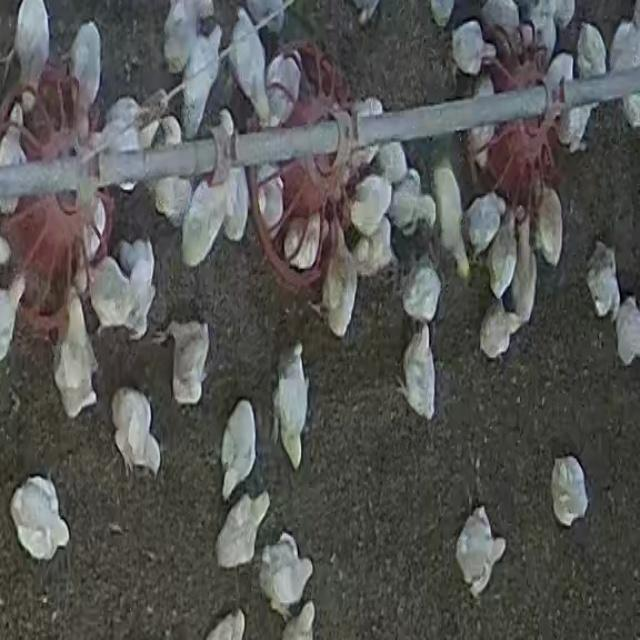chicken: (54, 295, 100, 416), (227, 8, 274, 126), (179, 15, 223, 137), (97, 97, 149, 195), (254, 526, 314, 608), (11, 478, 74, 554), (455, 505, 506, 597), (76, 259, 143, 326), (276, 342, 314, 460), (182, 175, 230, 268), (152, 119, 194, 225), (432, 158, 468, 280), (215, 488, 269, 568), (114, 392, 166, 475), (395, 324, 438, 422), (10, 1, 51, 103), (219, 401, 259, 499), (161, 1, 213, 76), (168, 318, 212, 404), (323, 225, 356, 339), (120, 237, 157, 337), (464, 74, 500, 175), (508, 213, 538, 326), (0, 104, 29, 216), (384, 172, 438, 232), (485, 208, 519, 300), (547, 455, 592, 523), (463, 191, 505, 261), (70, 23, 104, 106), (76, 181, 110, 263), (349, 174, 393, 236), (402, 258, 442, 326), (565, 84, 602, 156), (534, 183, 565, 267), (350, 96, 387, 166), (375, 116, 412, 184), (586, 242, 619, 317), (353, 221, 395, 279), (266, 54, 301, 123), (478, 301, 518, 360), (450, 19, 490, 77), (287, 212, 323, 270), (223, 167, 250, 240), (614, 296, 640, 366), (609, 16, 639, 75), (242, 1, 288, 38), (258, 171, 284, 236), (546, 51, 570, 118), (578, 25, 606, 82), (5, 270, 27, 323)
